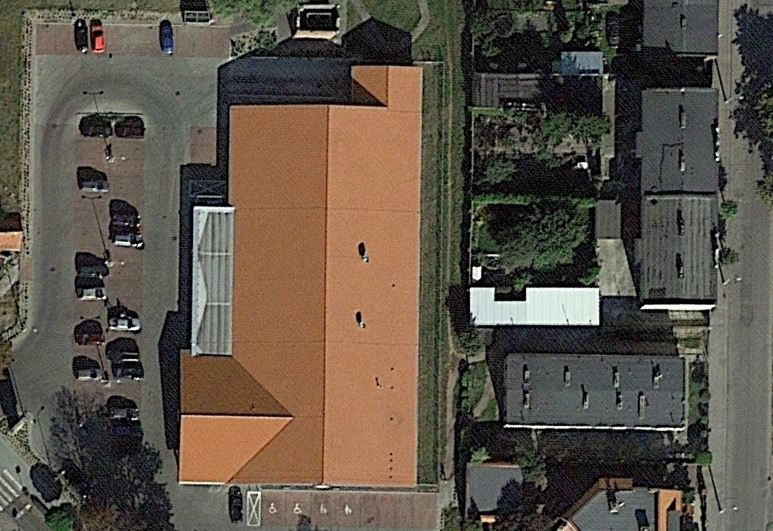block of flats: (630, 86, 720, 314), (500, 346, 697, 436), (536, 474, 697, 531)
garage: (468, 283, 604, 332)
shopping_center: (175, 55, 424, 498)
